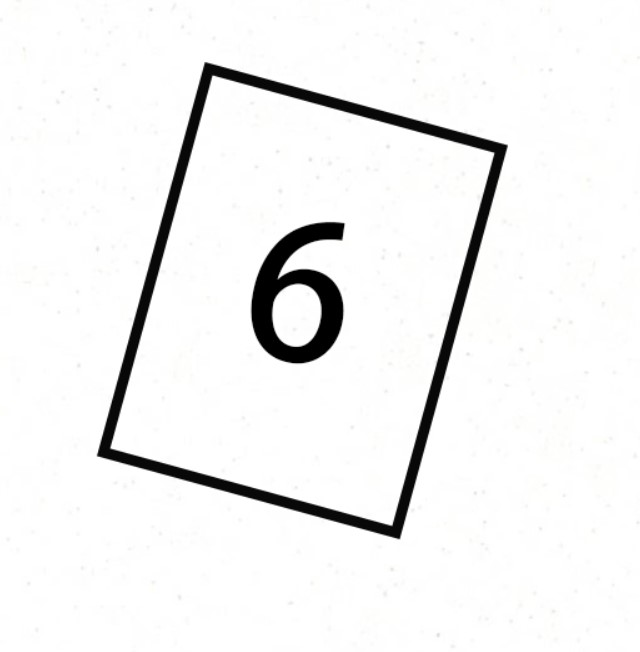six: (222, 158, 389, 408)
